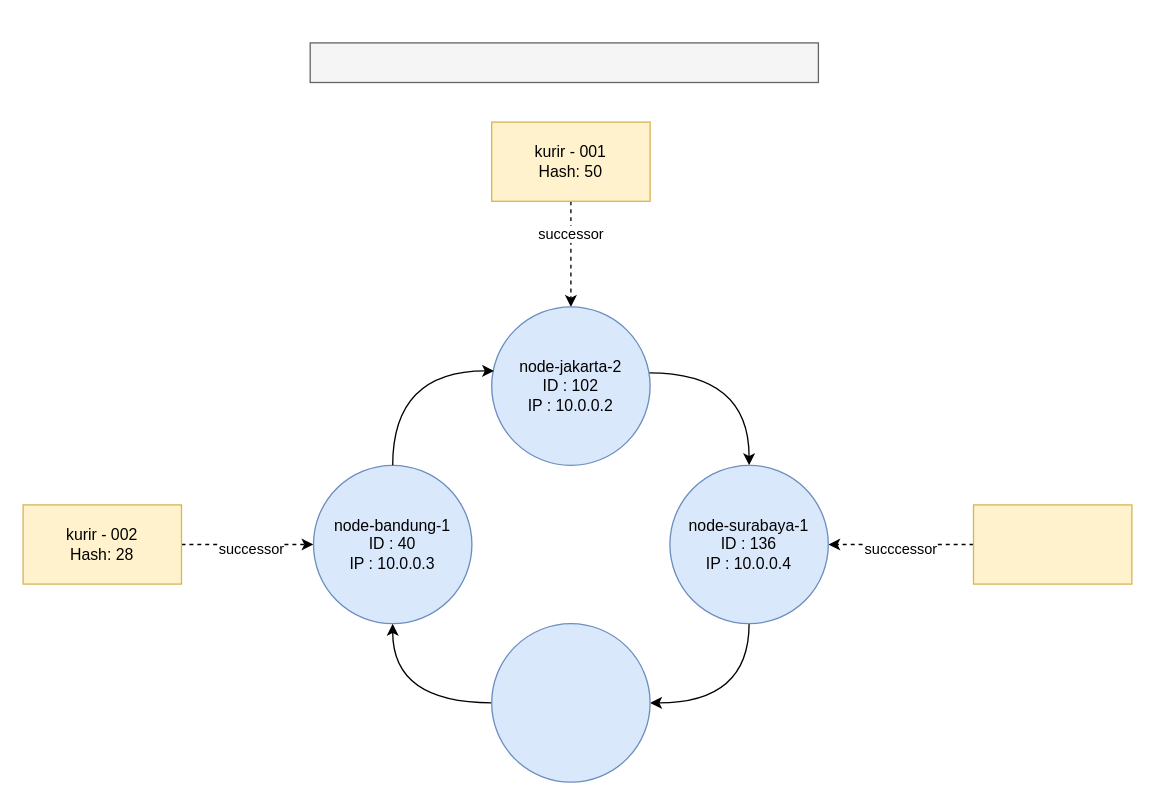
Image size: 1155x805. Some labels were removed from this diagram. The centre of each missing label's shape, as x and y in pixels:
"DIAGRAM TOPOLOGI AWAL" belongs at pixel 563 62.
"kurir - 003 ash: 132" belongs at pixel 1052 544.
"node-jakarta-1 ID : 177 IP : 10.0.0.1" belongs at pixel 570 702.
